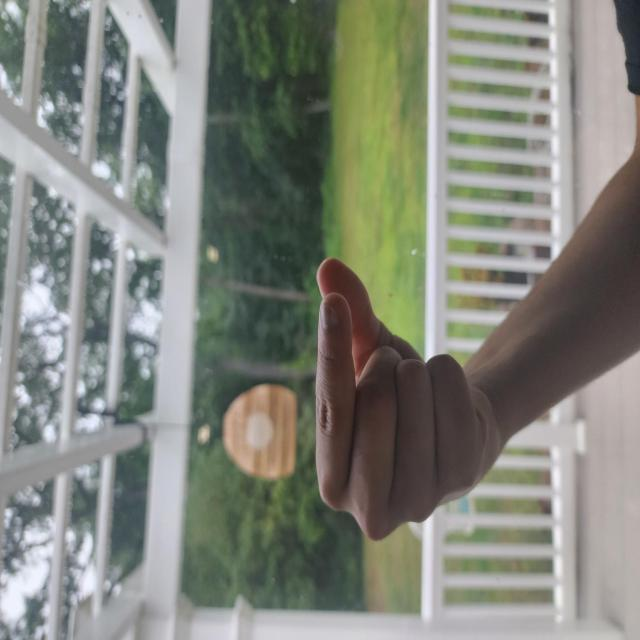G: (65, 411, 295, 640)
